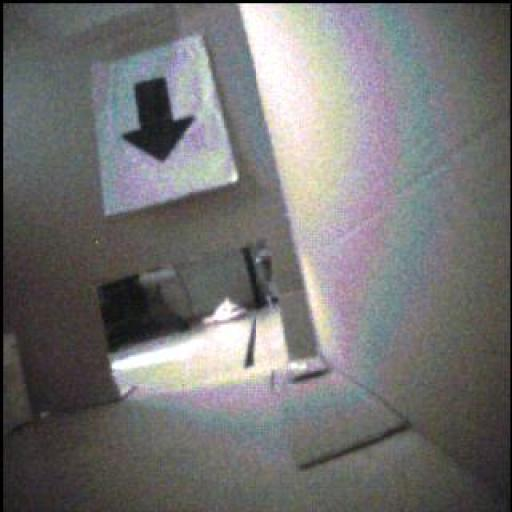arrow: (124, 80, 195, 163)
